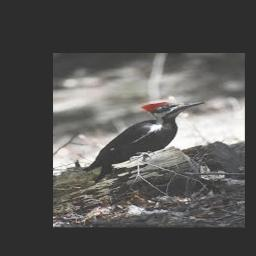Woodpecker: (83, 100, 204, 180)
